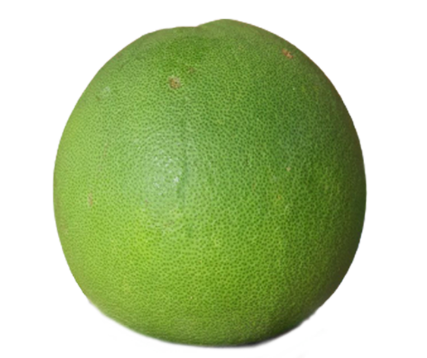buoi: (50, 17, 368, 350)
